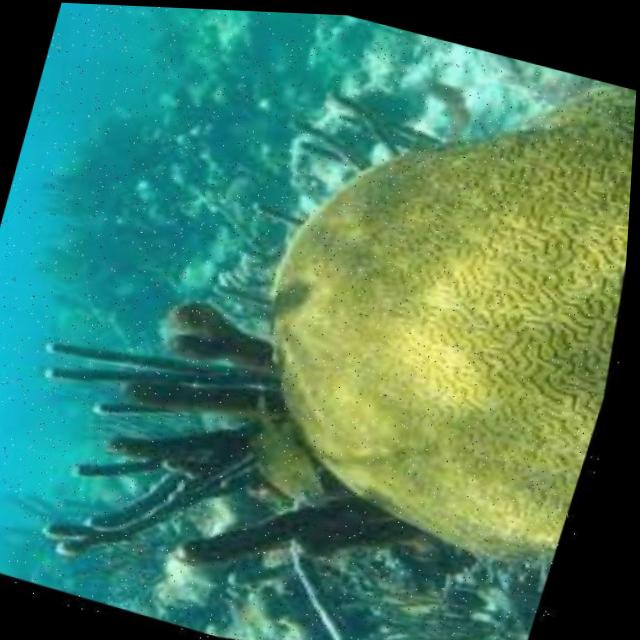Healthy Coral: (158, 6, 640, 618)
